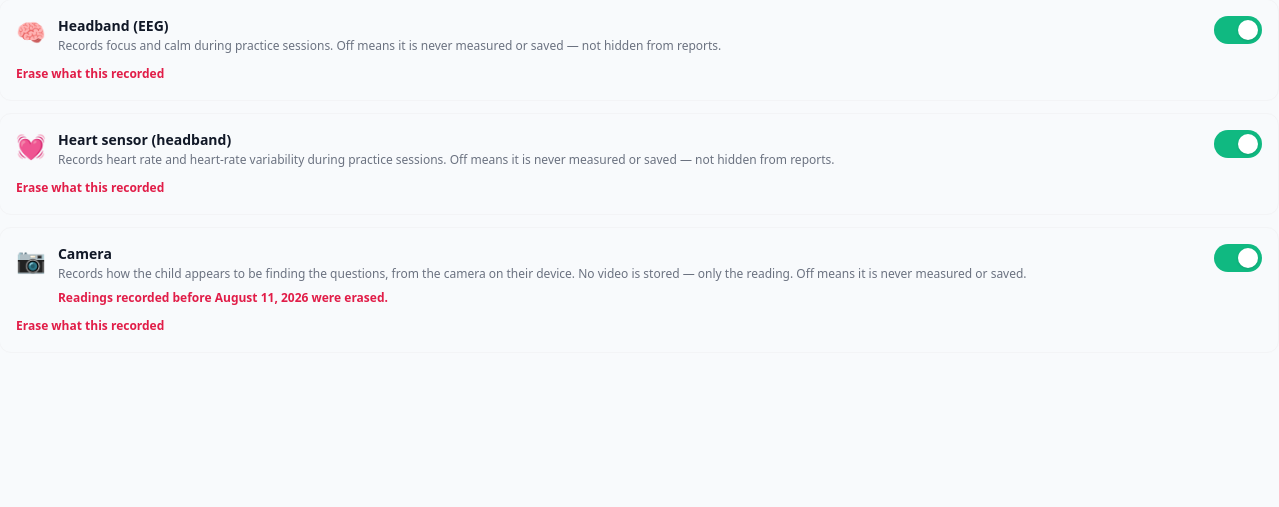
erasing stored readings › warns that erasing does not stop the sensor still recording
Check: the text "Camera" is shown, box [58,244,112,263]
Click the button "Erase what this recorded" below "Readings recorded before". click: coordinates (90, 326)
box: [16,318,164,334]
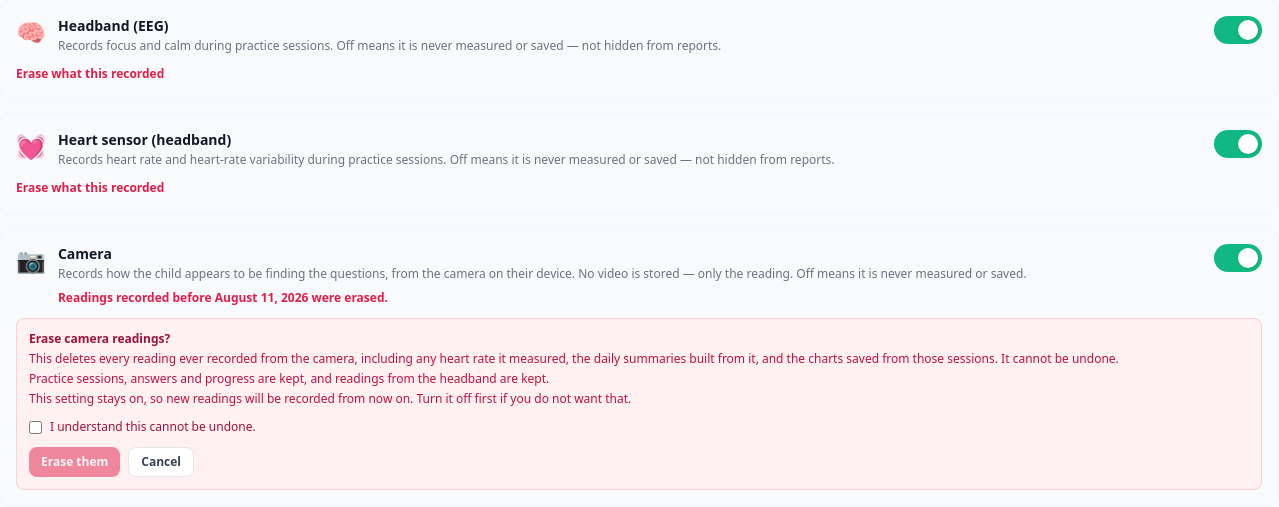
Check: the text "new readings will be recorded from now on" is shown, box [29,390,631,407]
